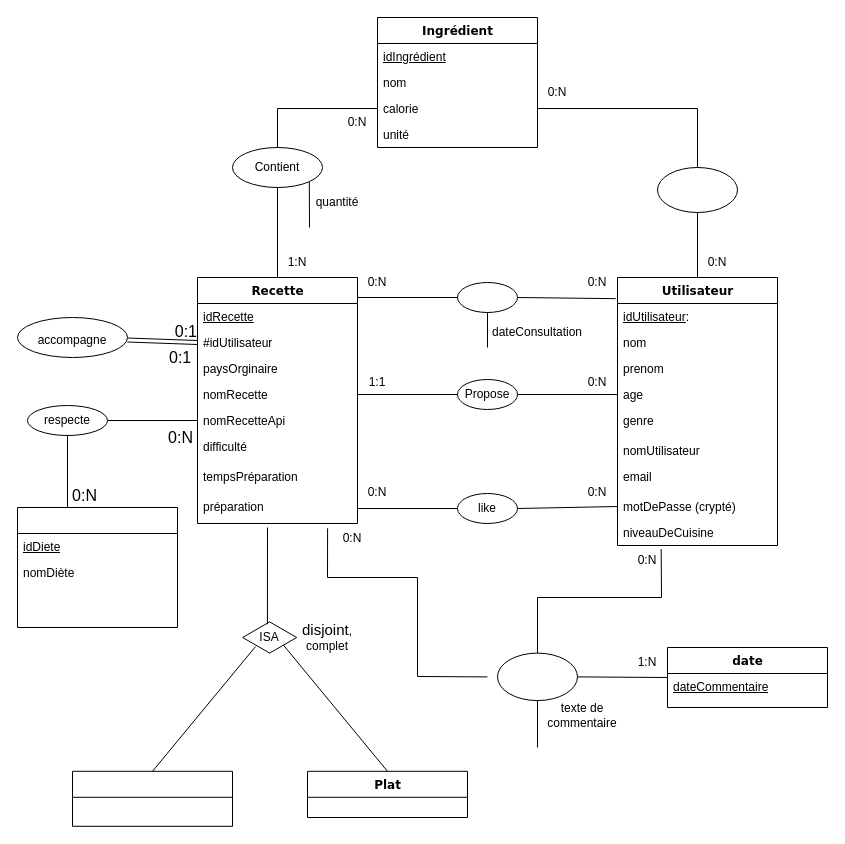
Image size: 845x844. Some labels were removed from this diagram. The box of each missing label's shape, as (x1, y1, x2, y2) in pixels:
Cocktail: (72, 770, 232, 826)
commente: (496, 652, 578, 701)
consulte: (456, 282, 518, 312)
est allergique: (656, 166, 738, 212)
TypeDiète: (16, 506, 178, 628)
